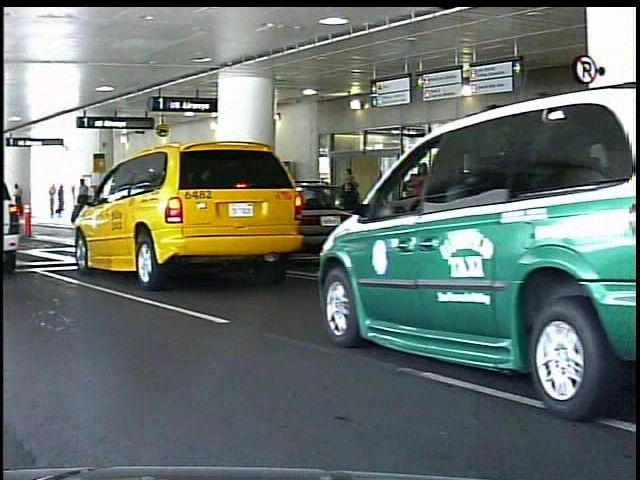person: (338, 166, 365, 254), (74, 177, 94, 229), (59, 183, 72, 223), (54, 182, 64, 223)
